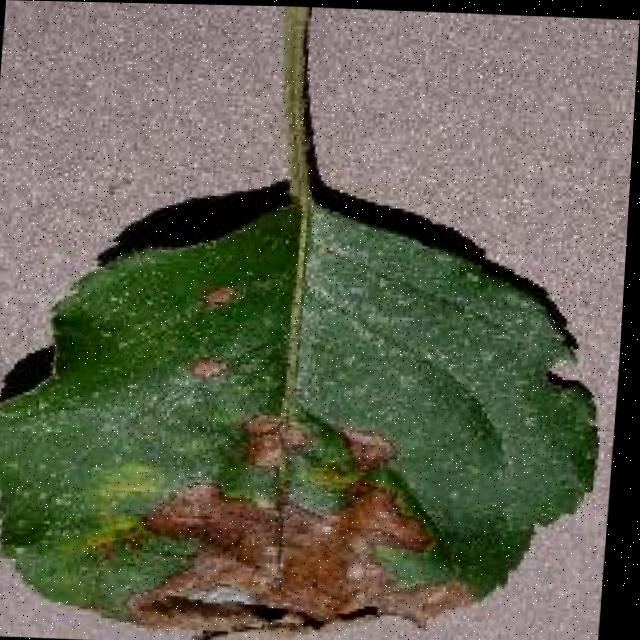black_rot: (112, 409, 494, 640), (176, 347, 245, 388), (191, 275, 248, 315)
